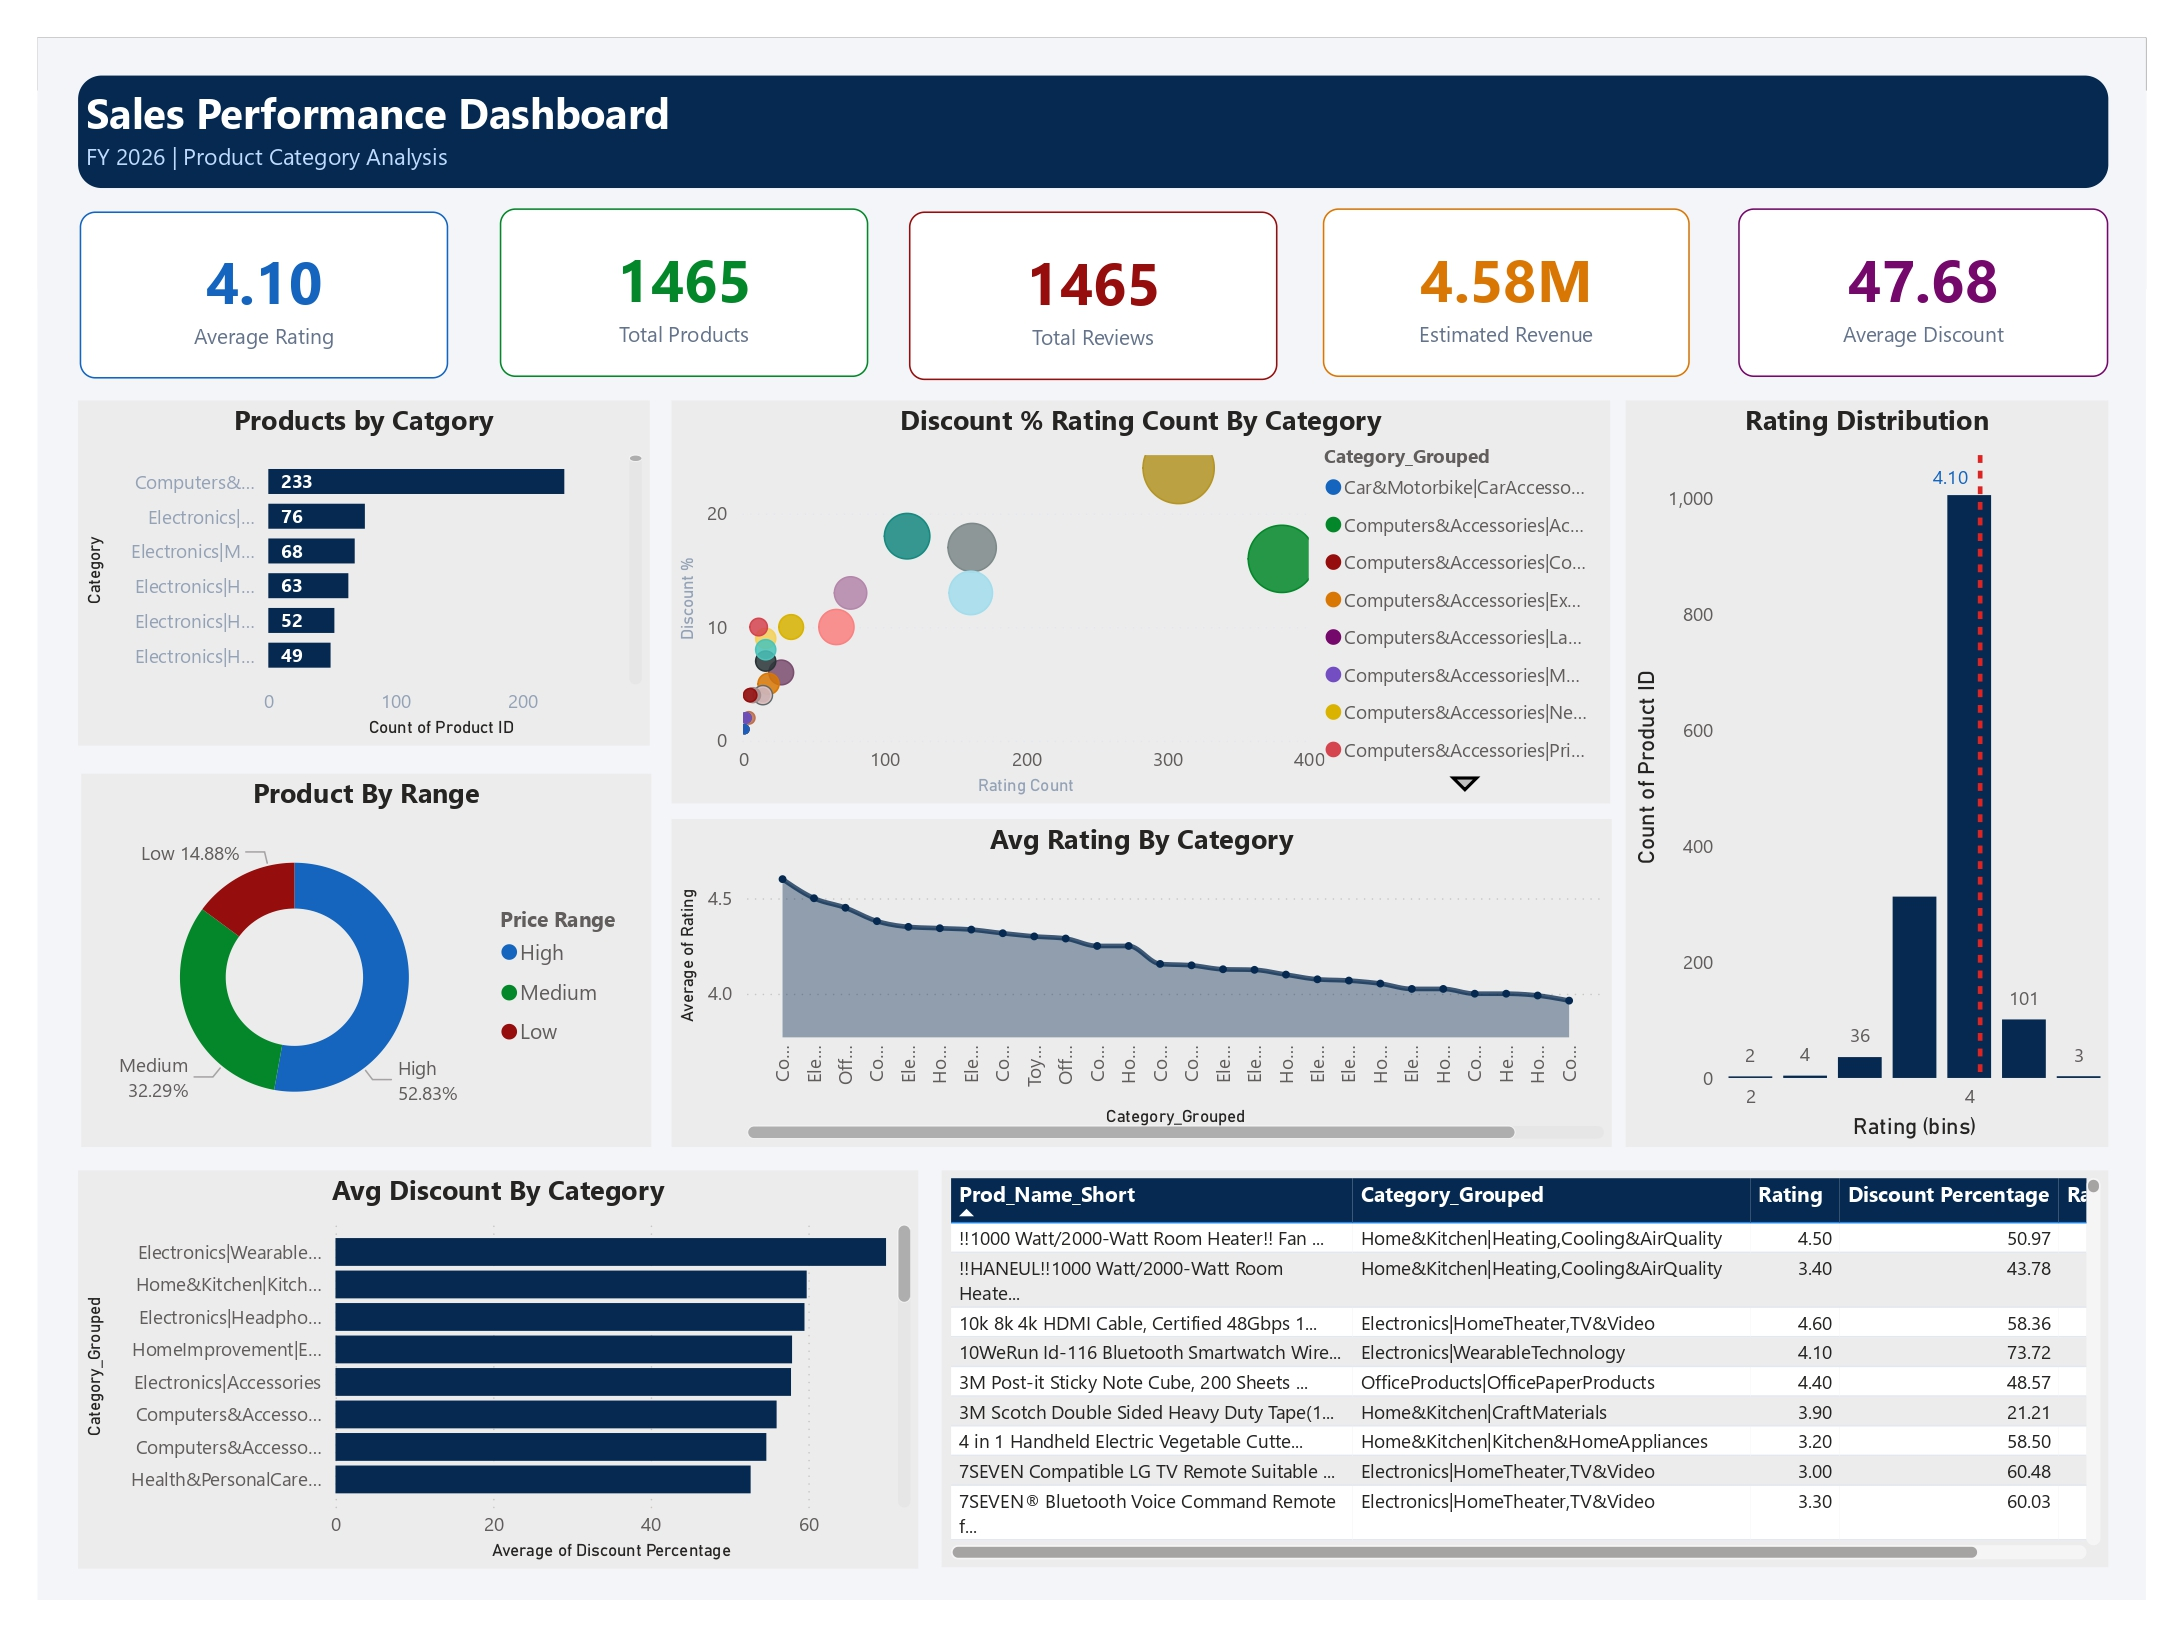

What the dashboard file says about the page in this screenshot:
{"tool":"powerbi","page":{"name":"Page 1","canvas":[1350,1000],"ordinal":0},"visuals":[{"type":"card","title":"Average Rating","fields":{"Values":["Main Sheet.Average Rating"]},"box":[27.4,111.1,236,107],"z":0},{"type":"clusteredBarChart","title":"Products by Catgory","fields":{"Category":["Main Sheet.Category"],"Y":["CountNonNull(Main Sheet.Product ID)"]},"box":[26.4,232.1,366,220.8],"z":1000},{"type":"clusteredColumnChart","title":"Rating Distribution","fields":{"Category":["Main Sheet.Rating (bins)"],"Y":["CountNonNull(Main Sheet.Product ID)"]},"box":[1017.4,231.9,308.7,478.3],"z":2000},{"type":"stackedAreaChart","title":"Avg Rating By Category","fields":{"Category":["Main Sheet.Category_Grouped"],"Y":["Avg(Main Sheet.Rating)"]},"box":[406,500,602,210],"z":3000},{"type":"barChart","title":"Avg Discount By Category","fields":{"Category":["Main Sheet.Category_Grouped"],"Y":["Avg(Main Sheet.Discount Percentage)"]},"box":[26.1,724.6,537.7,255.1],"z":4000},{"type":"scatterChart","title":"Discount % Rating Count By Category","fields":{"X":["CountNonNull(Main Sheet.Discount Percentage)"],"Y":["Count(Main Sheet.Rating)"],"Size":["Count(Main Sheet.Rating Count)"],"Series":["Main Sheet.Category_Grouped"]},"box":[405.8,231.9,601.4,258],"z":5000},{"type":"donutChart","title":"Product By Range","fields":{"Category":["Main Sheet.Price Range"],"Y":["CountNonNull(Main Sheet.Product ID)"]},"box":[27.5,471,365.2,239.1],"z":6000},{"type":"tableEx","fields":{"Values":["Main Sheet.Prod_Name_Short ","Main Sheet.Category_Grouped","Main Sheet.Rating","Main Sheet.Discount Percentage","Main Sheet.Rating Count"]},"box":[579.2,724.5,747.2,254.7],"z":7000},{"type":"shape","box":[26,24,1300,72],"z":8000},{"type":"textbox","box":[26,24,1032,72],"z":9000},{"type":"card","fields":{"Values":["Main Sheet.Total Products"]},"box":[296.2,109.4,235.8,107.5],"z":10000},{"type":"card","fields":{"Values":["Main Sheet.Total Reviews"]},"box":[558.5,111.3,235.8,107.5],"z":11000},{"type":"card","fields":{"Values":["Main Sheet.Estimated Revenue"]},"box":[822.6,109.4,235.8,107.5],"z":12000},{"type":"card","fields":{"Values":["Main Sheet.Average Discount"]},"box":[1088.7,109.4,237.7,107.5],"z":13000}]}

Visuals, with their boxes on the page's 1350x1000 design canvas (x1, y1, x2, y2). These are canvas units, not pixel positions in the 2184x1638 screenshot, which may show the page scaled, cropped or inside an application window:
"Average Rating" card: (27,111,263,218)
"Products by Catgory" clusteredBarChart: (26,232,392,453)
"Rating Distribution" clusteredColumnChart: (1017,232,1326,710)
"Avg Rating By Category" stackedAreaChart: (406,500,1008,710)
"Avg Discount By Category" barChart: (26,725,564,980)
"Discount % Rating Count By Category" scatterChart: (406,232,1007,490)
"Product By Range" donutChart: (28,471,393,710)
tableEx - Main Sheet.Prod_Name_Short  x Main Sheet.Category_Grouped: (579,724,1326,979)
shape: (26,24,1326,96)
textbox: (26,24,1058,96)
card - Main Sheet.Total Products: (296,109,532,217)
card - Main Sheet.Total Reviews: (558,111,794,219)
card - Main Sheet.Estimated Revenue: (823,109,1058,217)
card - Main Sheet.Average Discount: (1089,109,1326,217)
